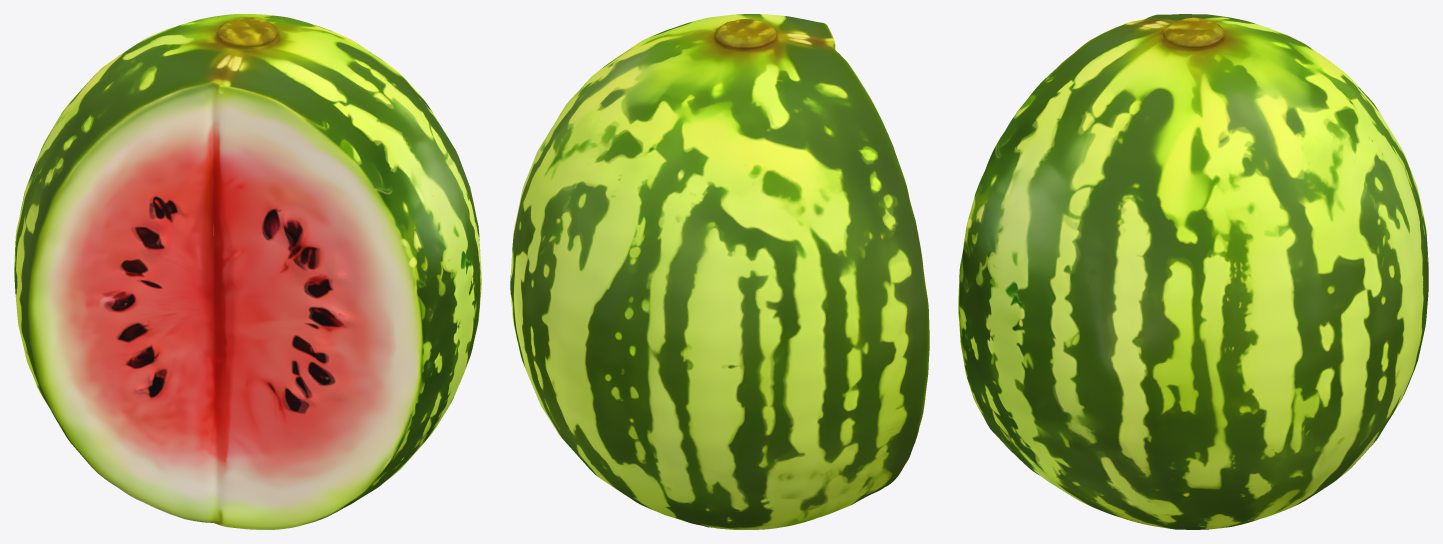
Rendered from watermelon.glb.
3 views of the same model, side by side, from view 1: azimuth 30°, elevation 25°; view 2: azimuth 150°, elevation 25°; view 3: azimuth 270°, elevation 25° (orthographic).
Parts seen in each view (by area): view 1: model; view 2: model; view 3: model.
Boxes of the visible parts, <box> form: model: <box>14,14,481,529</box>; model: <box>510,14,929,529</box>; model: <box>958,14,1428,529</box>.
Size of the model in its own units: 1.68 by 1.91 by 1.69.
1 material, 1 textured.
